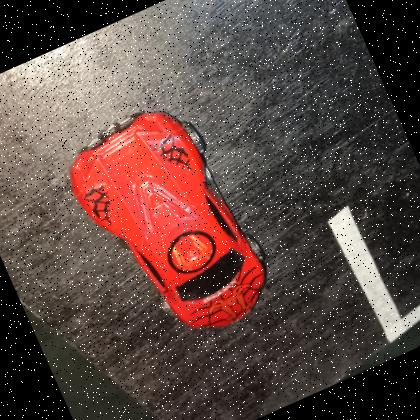Car: (52, 87, 286, 362)
